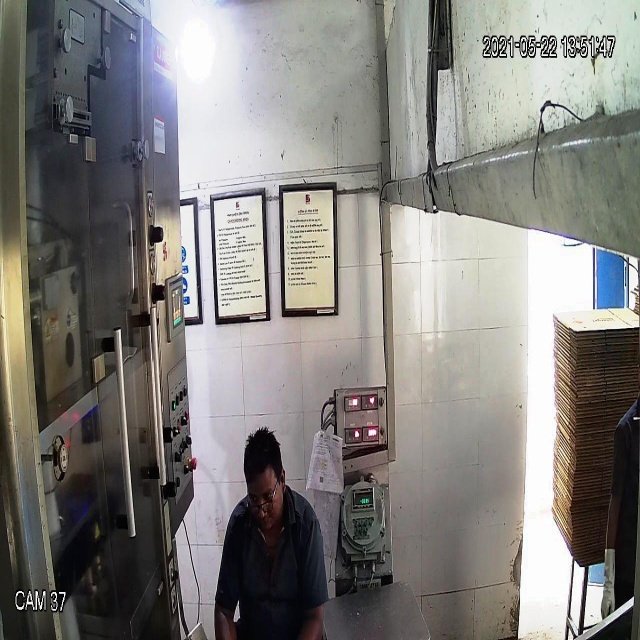Gafas: (245, 482, 282, 520)
